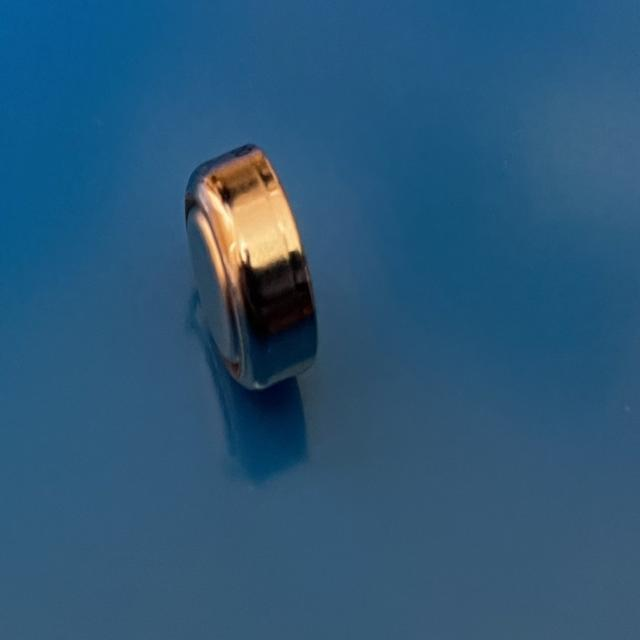COIN: (185, 141, 322, 394)
